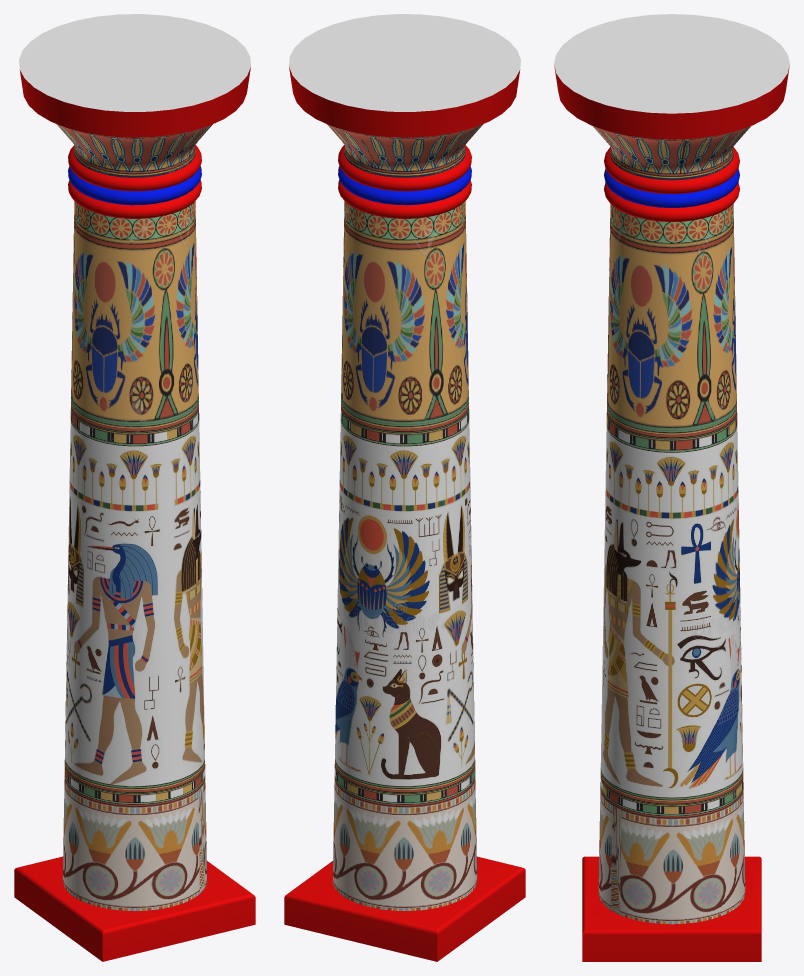
Rendered from Pillar.fbx.
3 renders of one model, left to right at view 1: azimuth 30°, elevation 25°; view 2: azimuth 150°, elevation 25°; view 3: azimuth 270°, elevation 25°, orthographic.
Parts seen in each view (by area): view 1: Cylinder, Cylinder.002, Plane, Cylinder.001; view 2: Cylinder, Cylinder.002, Plane, Cylinder.001; view 3: Cylinder, Cylinder.002, Plane, Cylinder.001.
Boxes of the visible parts, x1,y1,x2,y2 form: Cylinder: (62, 201, 207, 910); Cylinder.002: (19, 14, 250, 177); Plane: (14, 856, 255, 961); Cylinder.001: (68, 145, 201, 218); Cylinder: (332, 201, 477, 910); Cylinder.002: (289, 14, 520, 177); Plane: (284, 856, 525, 961); Cylinder.001: (338, 145, 471, 218); Cylinder: (598, 204, 745, 924); Cylinder.002: (554, 14, 789, 180); Plane: (582, 856, 761, 961); Cylinder.001: (604, 147, 739, 221).
Size of the model in its own units: 206 by 827 by 206.
7 materials, 3 textured.
